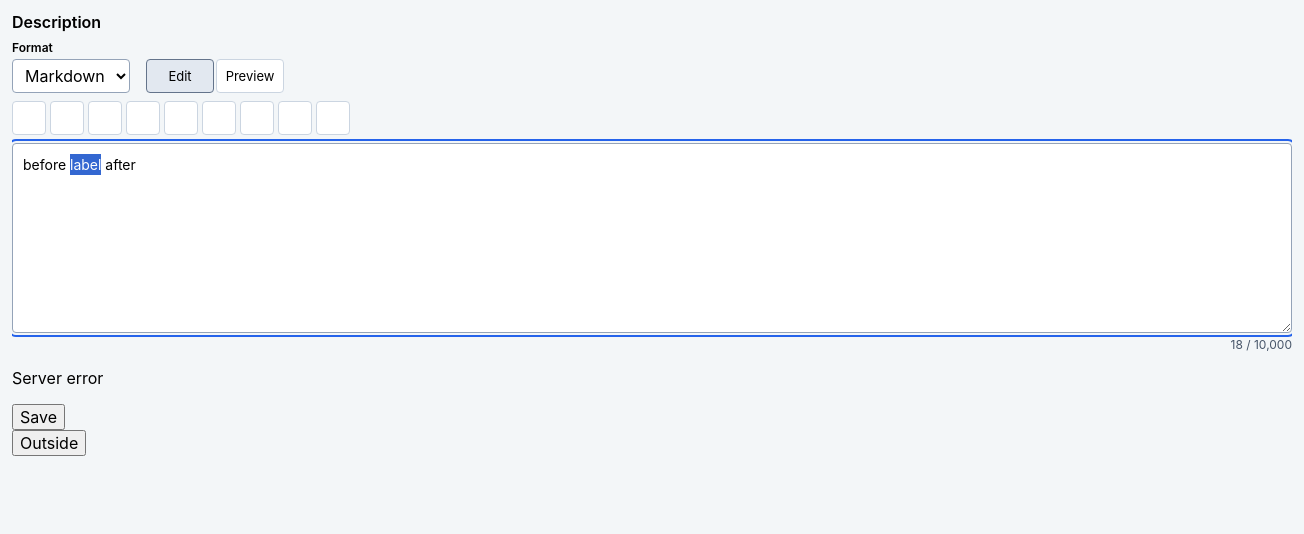
Test case: AuthoredContentEditorComponent › captures textarea selection before focusing the URL and inserts an escaped descriptive link
Click the button named "Link" at {"x": 333, "y": 118}, box [316,101,350,135]
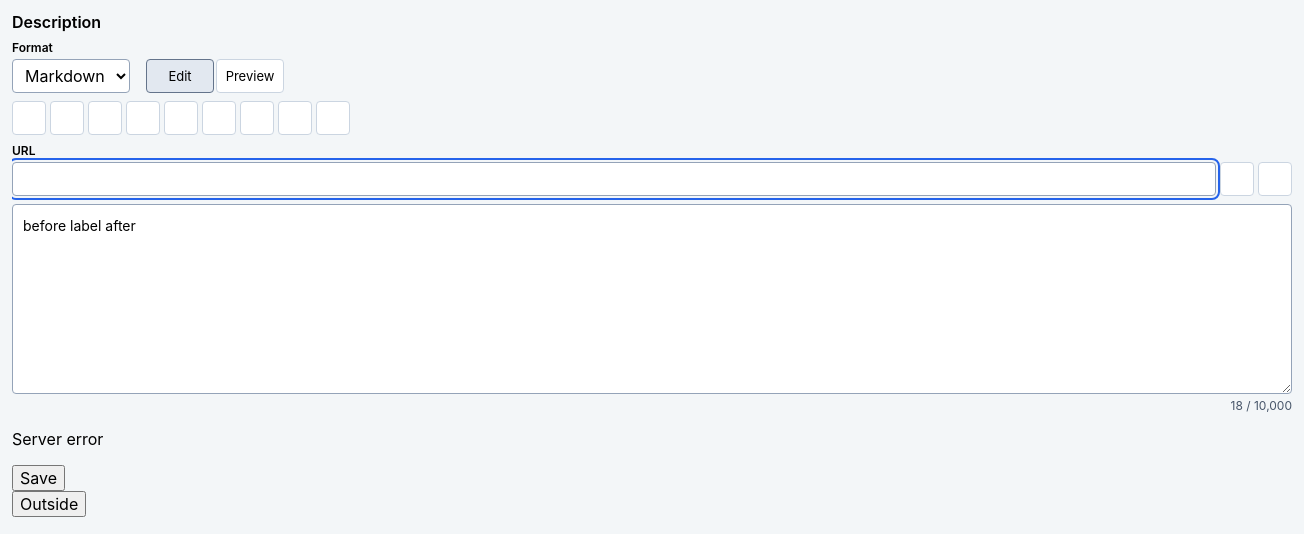
Type "https://example.com/a_(b)" into the field labelled "URL" at {"x": 614, "y": 179}, box [12,162,1216,196]
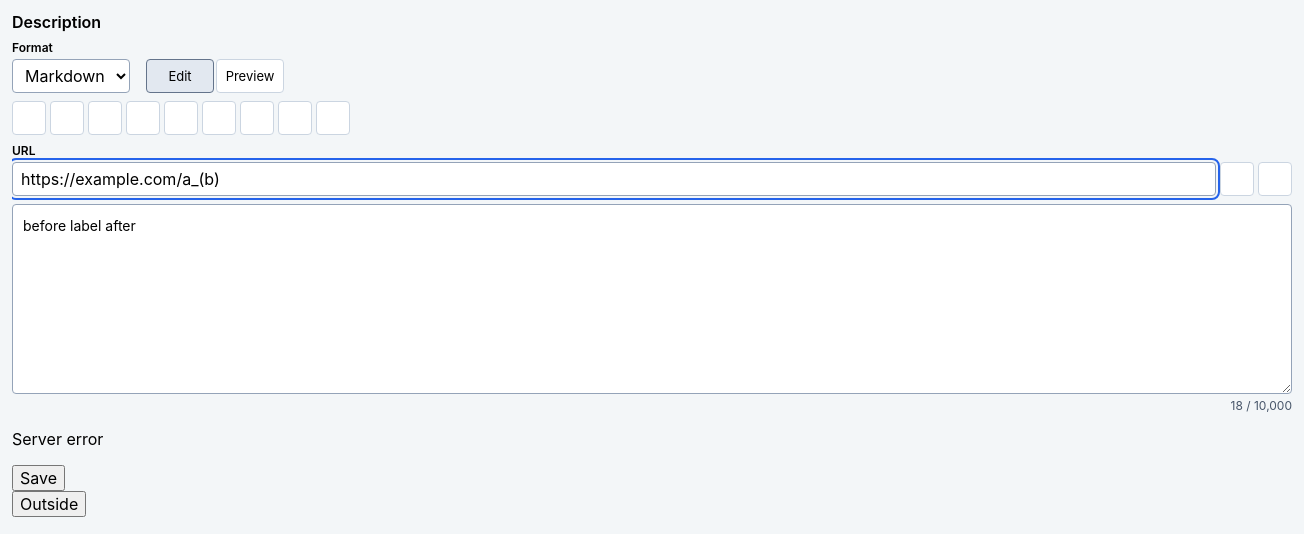
Press Enter in the field labelled "URL", box [12,162,1216,196]
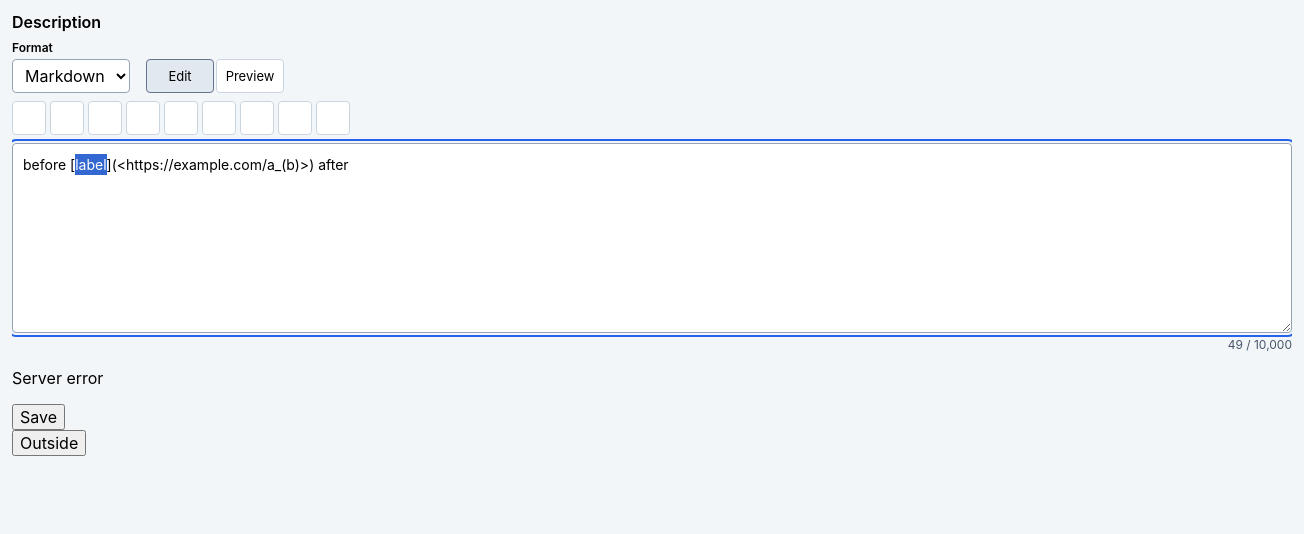
Now the element with class "link-entry" is gone
